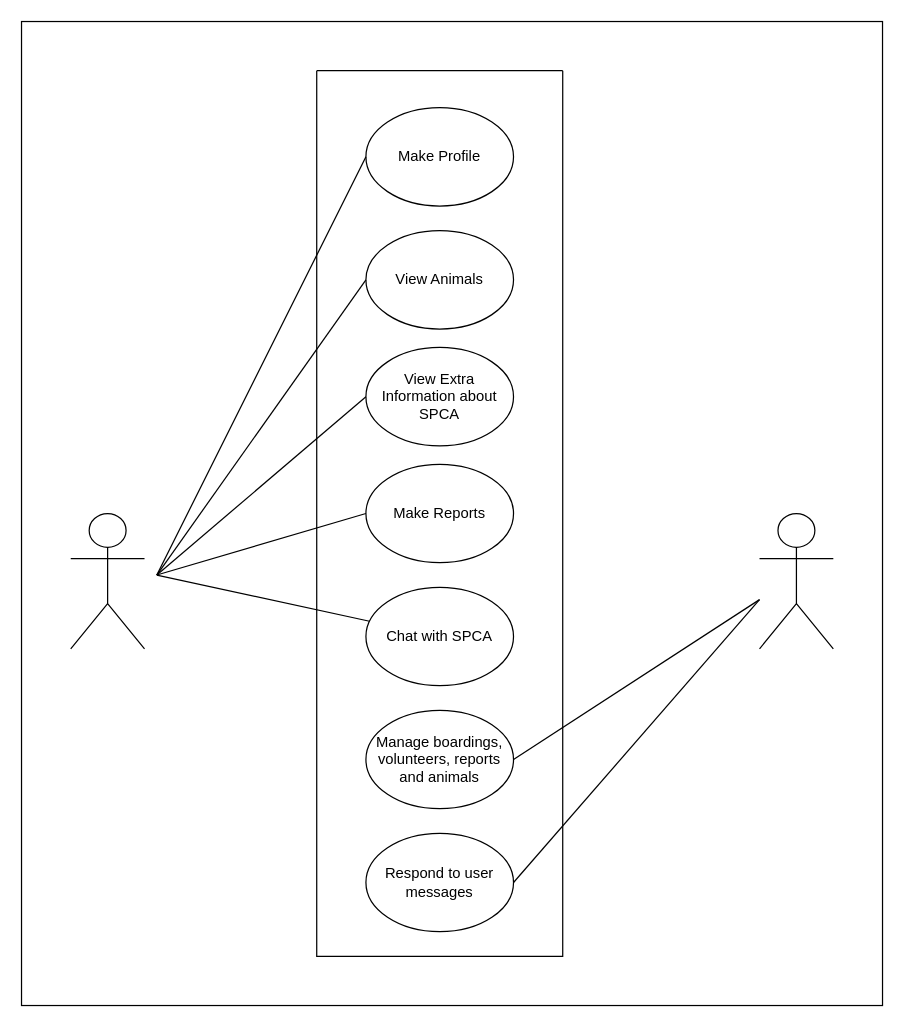
Image size: 904x1027. Some labels were removed from this diagram. Each missing label, with the box of its shape:
Admin: (758, 512, 833, 649)
User: (69, 512, 145, 649)
